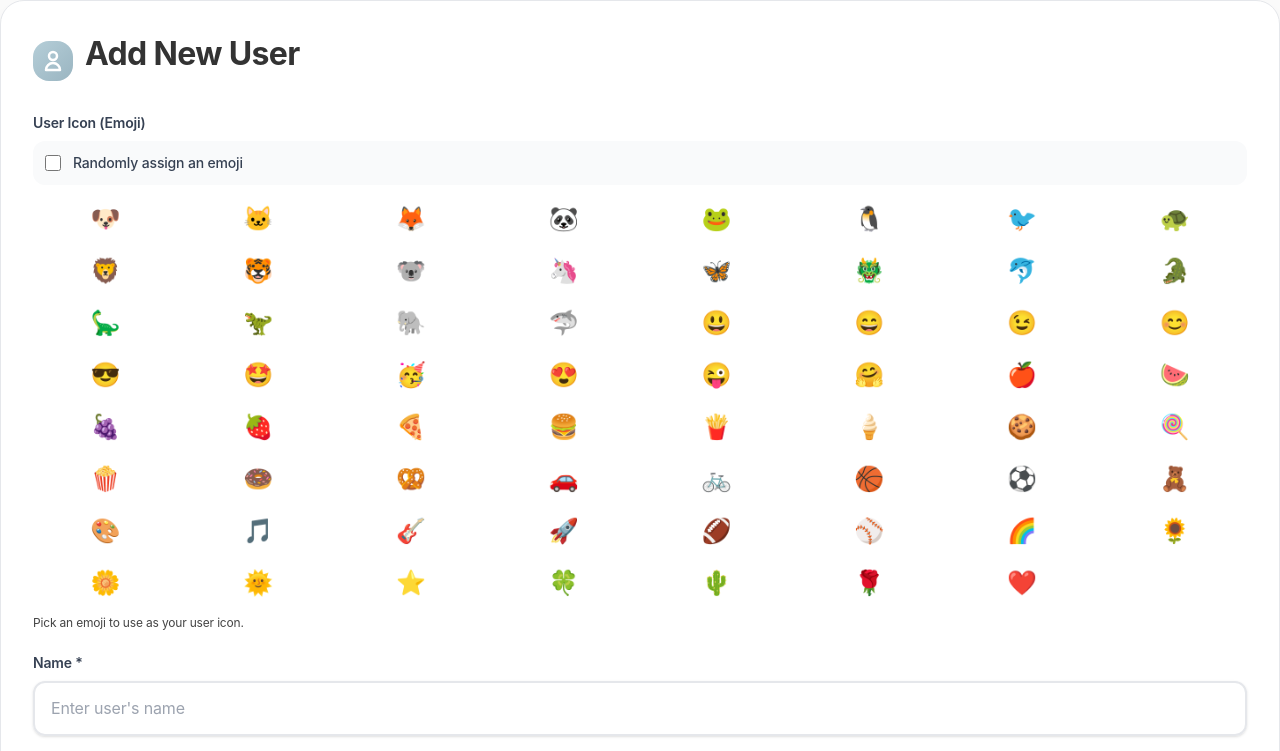
Test: UserForm - Duplicate Prevention › shows duplicate warning for case-insensitive matches
// Type existing user name with different case
Type "JOHN DOE" into the field labelled "Name *" at coordinates (640, 709), box [33, 681, 1247, 736]
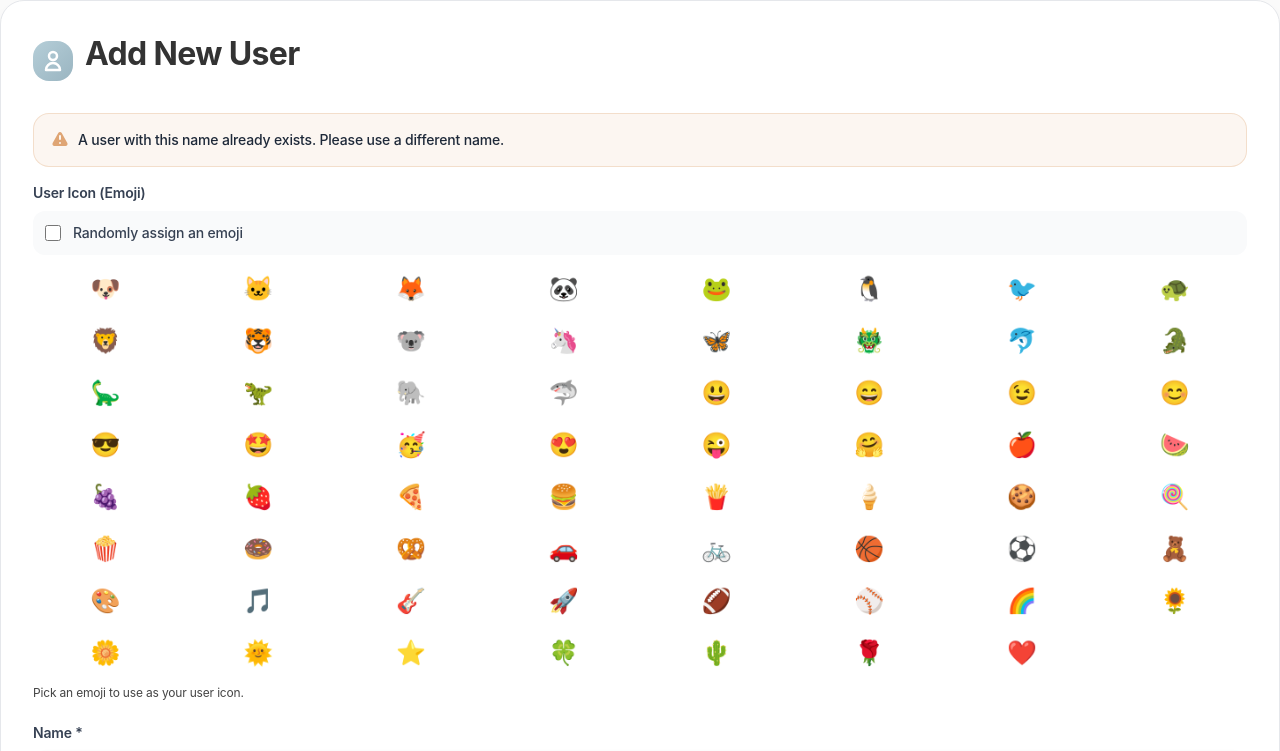
Expected: the text "A user with this name already exists" is shown, [78, 131, 504, 148]
